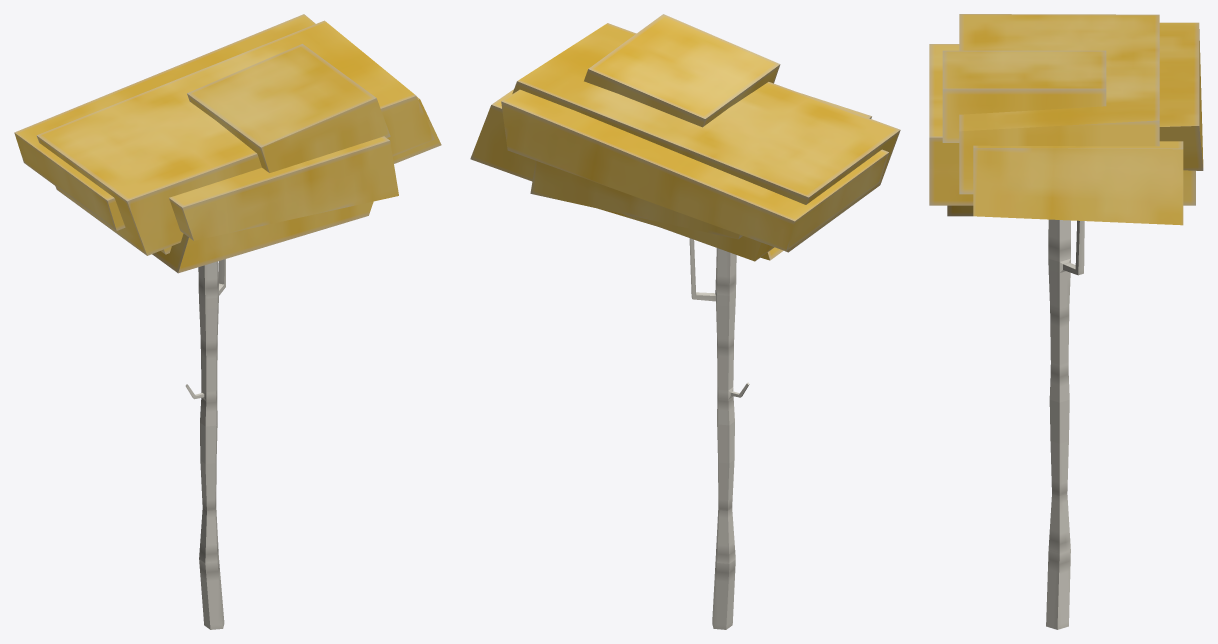
File: tree_tall1_yellow.fbx
The picture shows the model from 3 angles, left to right: view 1: azimuth 30°, elevation 25°; view 2: azimuth 150°, elevation 25°; view 3: azimuth 270°, elevation 25°; orthographic projection. The views are drawn at different scales.
Visible parts, largest first — view 1: group7_3, group7_1, group7, group7_5, group7_4, pCube3, group7_2; view 2: group7_3, group7_5, group7_1, group7_4, group7, group7_2; view 3: group7_3, group7_2, group7_1, group7_4, group7_5, group7.
Part boxes in pixels (x1,y1,x2,y2): group7_3: (36, 20, 434, 255); group7_1: (187, 44, 390, 172); group7: (169, 136, 398, 240); group7_5: (14, 14, 315, 230); group7_4: (185, 259, 225, 629); pCube3: (152, 201, 373, 273); group7_2: (161, 97, 441, 254); group7_3: (512, 23, 900, 252); group7_5: (501, 89, 888, 251); group7_1: (584, 14, 780, 127); group7_4: (689, 238, 749, 629); group7: (530, 93, 871, 239); group7_2: (470, 89, 774, 261); group7_3: (959, 14, 1159, 194); group7_2: (973, 141, 1183, 225); group7_1: (942, 50, 1106, 142); group7_4: (1046, 219, 1084, 629); group7_5: (1159, 22, 1203, 170); group7: (929, 44, 1195, 205).
Size of the model in its own units: 242 by 380 by 159.
1 material, 1 textured.
